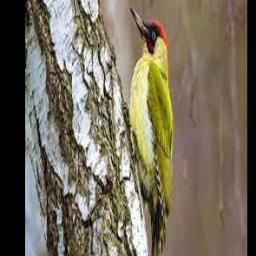Woodpecker: (121, 7, 174, 256)
